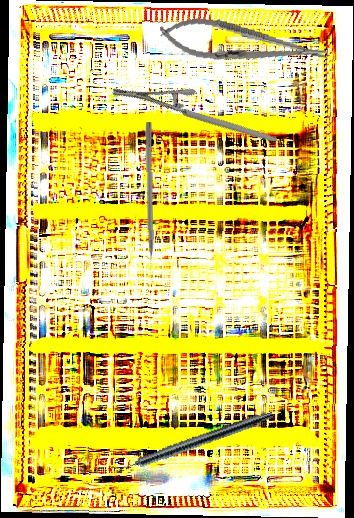Handpiece: (108, 406, 275, 479)
Needle Holder: (109, 43, 278, 189), (156, 11, 331, 77)
Pusher: (143, 121, 155, 281)
